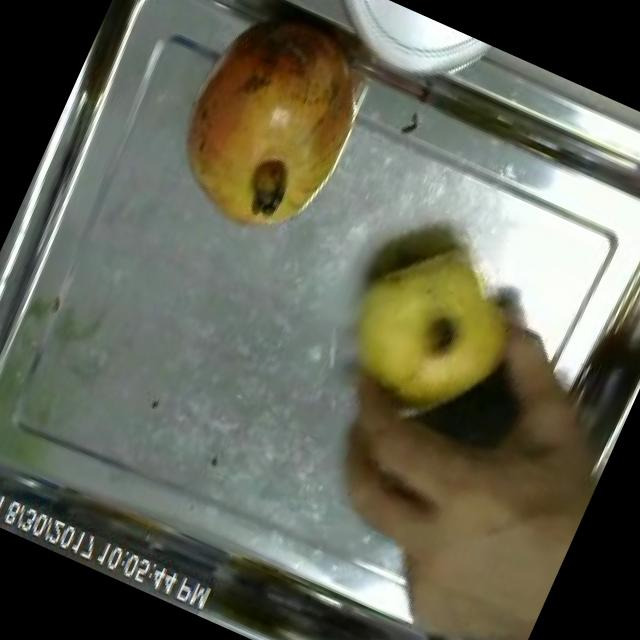fruit: (137, 0, 402, 269), (312, 208, 551, 458)
